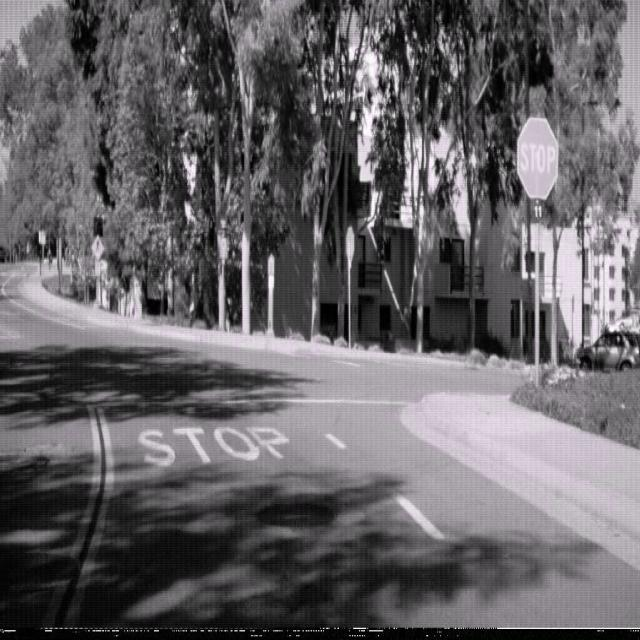pedestrianCrossing: (90, 233, 104, 260)
stop: (517, 115, 558, 199)
